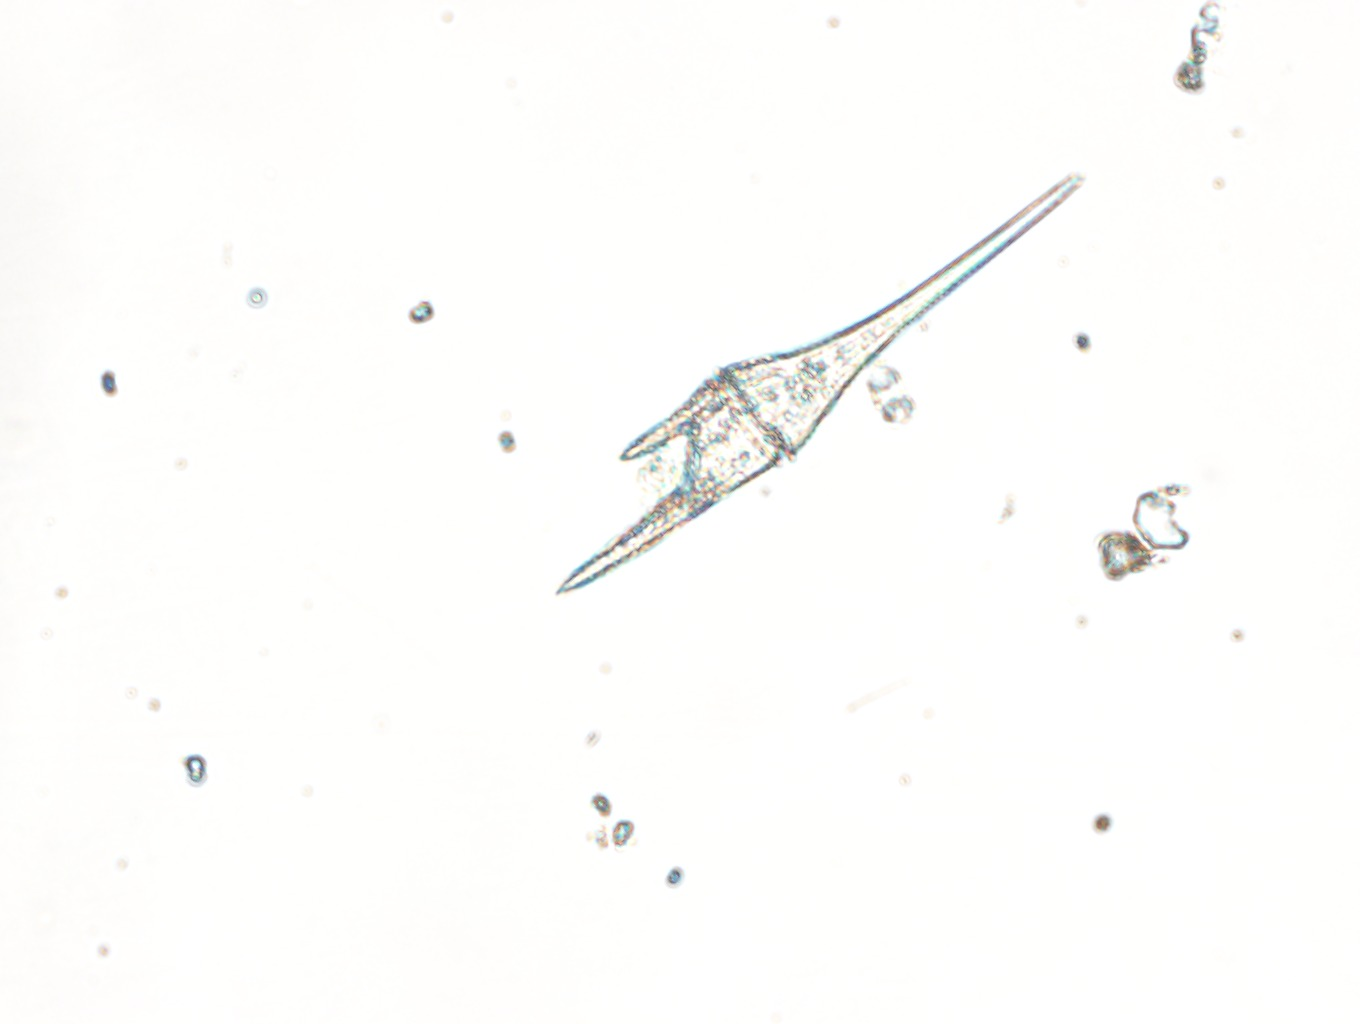ceratium furca: (555, 170, 1084, 598)
